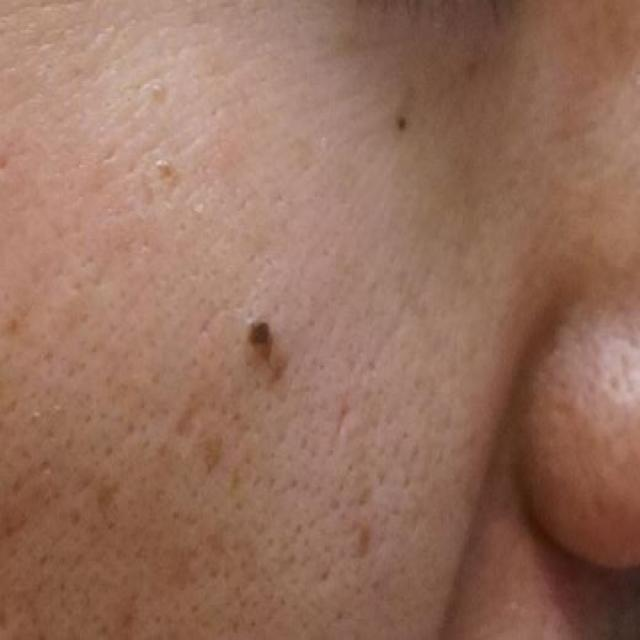dark spot: (234, 310, 291, 382)
